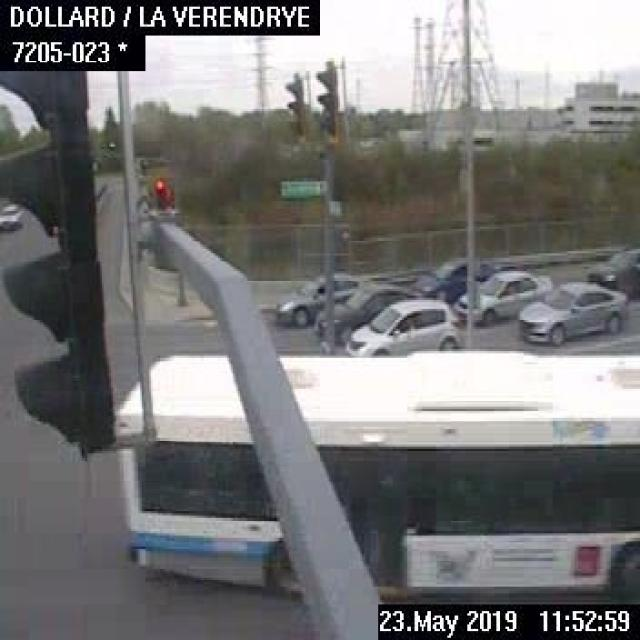bus: (115, 351, 638, 598)
vehicle: (516, 280, 626, 346), (344, 295, 464, 351), (452, 266, 552, 327), (273, 271, 370, 327), (410, 256, 493, 298), (582, 244, 638, 300), (0, 202, 25, 231)
